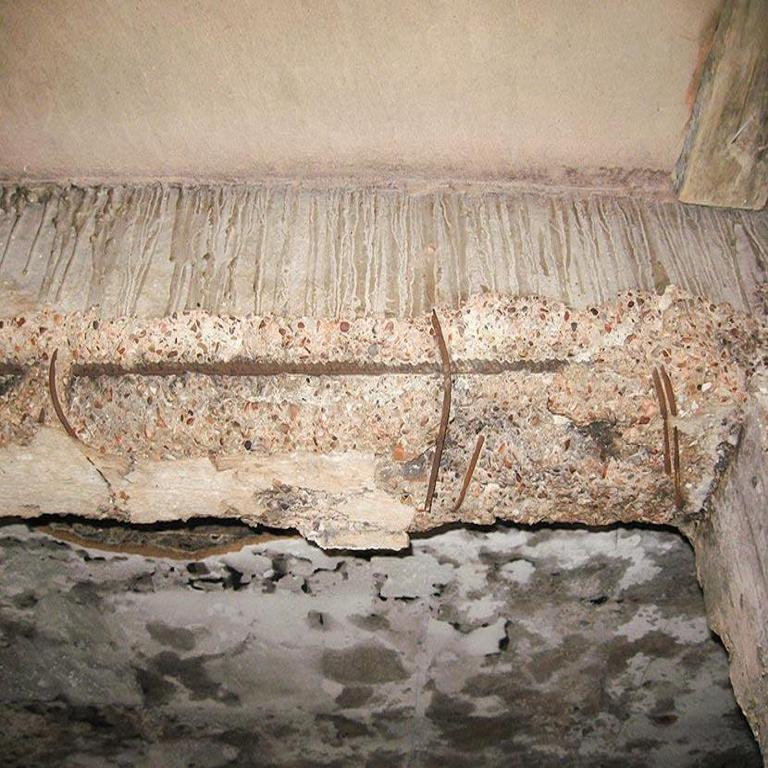exposed_rebar: (74, 310, 556, 512), (652, 364, 684, 508), (48, 348, 81, 442), (453, 434, 486, 511)
spalling: (0, 270, 768, 562)
